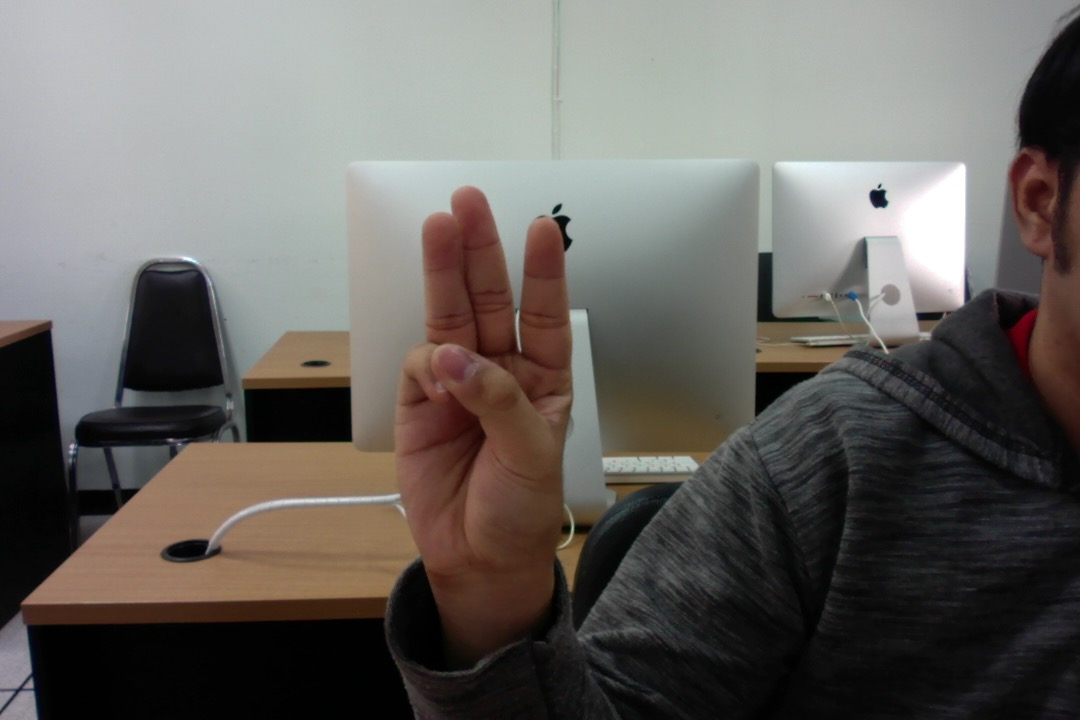wor: (387, 179, 606, 592)
